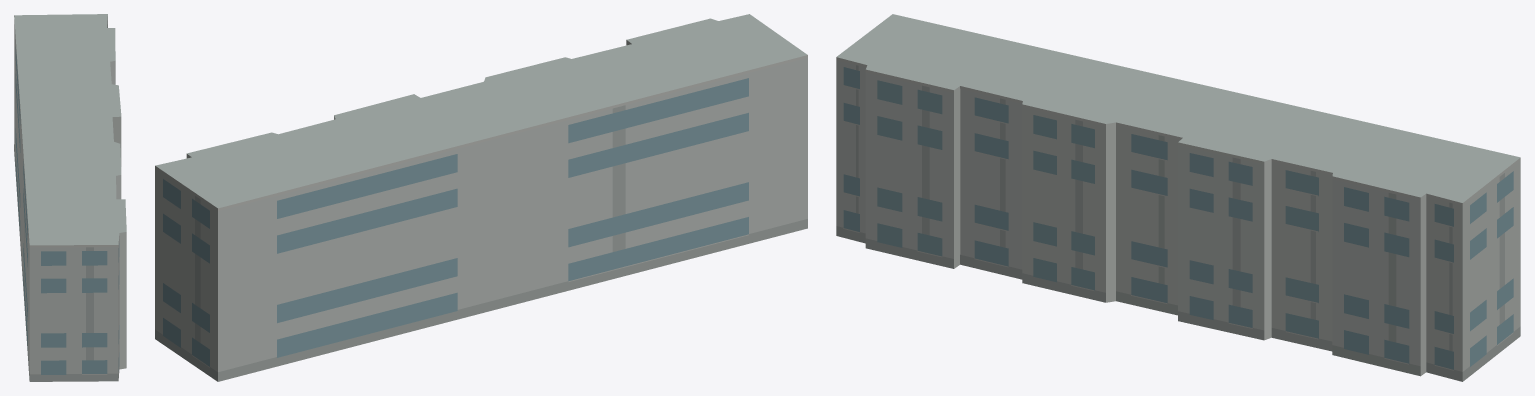
Rendered from survey-upis-32835747.glb.
3 views of the same model, side by side, from view 1: azimuth 30°, elevation 25°; view 2: azimuth 150°, elevation 25°; view 3: azimuth 270°, elevation 25° (orthographic). The views are drawn at different scales.
Visible parts, largest first — view 1: survey-upis-32835747.tmp; view 2: survey-upis-32835747.tmp; view 3: survey-upis-32835747.tmp.
Part boxes in pixels (x1,y1,x2,y2): survey-upis-32835747.tmp: (14,14,126,381); survey-upis-32835747.tmp: (155,14,807,381); survey-upis-32835747.tmp: (836,14,1520,381).
Bounding box in the file's own units: 34.62 × 15.25 × 52.93.
